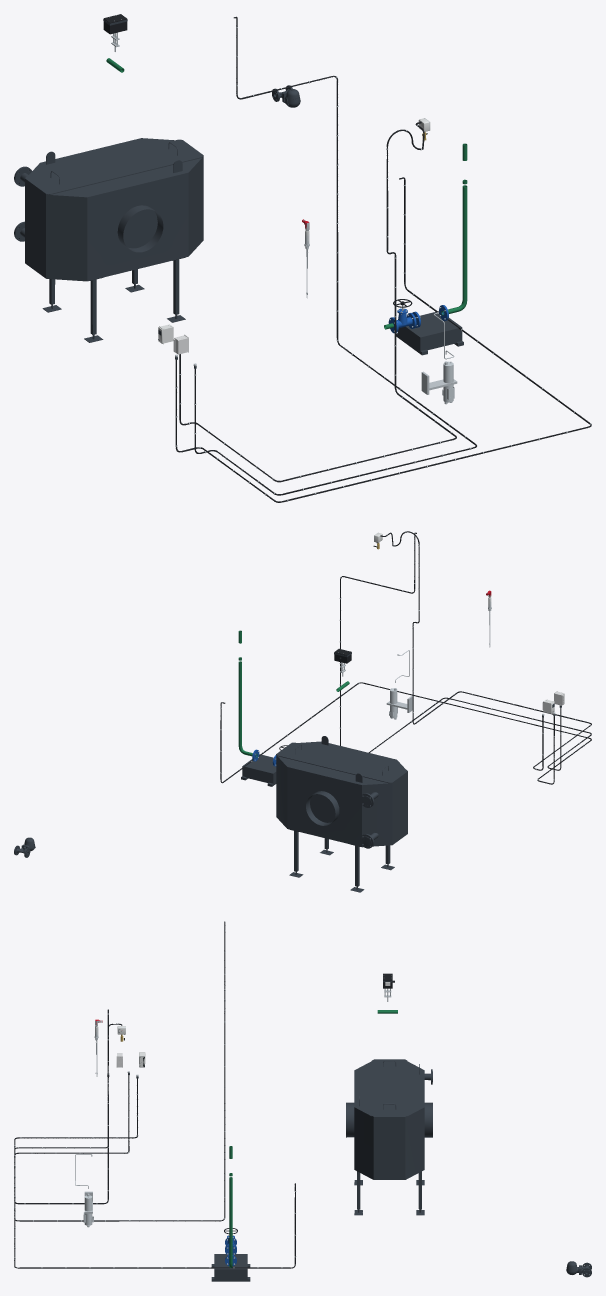
File: s4000-2-BEifbl9y.glb
3 views of the same model, one above another, from view 1: azimuth 30°, elevation 25°; view 2: azimuth 150°, elevation 25°; view 3: azimuth 270°, elevation 25° (orthographic). The views are drawn at different scales.
Visible parts, largest first — view 1: EQS2-2000 CAD 0, EQS2-2000 CAD 3, EQS2-2000 CAD 1, gpz_drive_cable / black, wiring_pump_2 / black, wiring_pressure_transmitter / black, pump_branch_1 / dark, pump_branch_1 / green; view 2: EQS2-2000 CAD 0, EQS2-2000 CAD 3, EQS2-2000 CAD 2, wiring_pump_2 / black, wiring_pressure_transmitter / black, gpz_drive_cable / black, pump_branch_1 / dark, pump_branch_1 / green; view 3: EQS2-2000 CAD 3, gpz_drive_cable / black, wiring_pump_2 / black, EQS2-2000 CAD 0, wiring_pressure_transmitter / black, pump_branch_1 / dark.
Part boxes in pixels (left/top/right/bottom): EQS2-2000 CAD 0: left=42, top=172, right=188, bottom=342; EQS2-2000 CAD 3: left=25, top=138, right=203, bottom=278; EQS2-2000 CAD 1: left=46, top=194, right=87, bottom=281; gpz_drive_cable / black: left=194, top=16, right=476, bottom=495; wiring_pump_2 / black: left=175, top=177, right=591, bottom=502; wiring_pressure_transmitter / black: left=179, top=122, right=456, bottom=482; pump_branch_1 / dark: left=396, top=311, right=463, bottom=355; pump_branch_1 / green: left=384, top=143, right=467, bottom=329; EQS2-2000 CAD 0: left=287, top=767, right=394, bottom=892; EQS2-2000 CAD 3: left=276, top=736, right=407, bottom=844; EQS2-2000 CAD 2: left=360, top=783, right=392, bottom=848; wiring_pump_2 / black: left=220, top=682, right=591, bottom=784; wiring_pressure_transmitter / black: left=380, top=531, right=591, bottom=770; gpz_drive_cable / black: left=340, top=532, right=591, bottom=770; pump_branch_1 / dark: left=241, top=754, right=276, bottom=786; pump_branch_1 / green: left=238, top=630, right=257, bottom=757; EQS2-2000 CAD 3: left=354, top=1059, right=424, bottom=1179; gpz_drive_cable / black: left=14, top=921, right=225, bottom=1221; wiring_pump_2 / black: left=14, top=1075, right=295, bottom=1268; EQS2-2000 CAD 0: left=346, top=1102, right=432, bottom=1215; wiring_pressure_transmitter / black: left=14, top=1009, right=137, bottom=1204; pump_branch_1 / dark: left=211, top=1254, right=250, bottom=1281.
Size of the model in its own units: 4.31 by 3.6 by 6.74.
